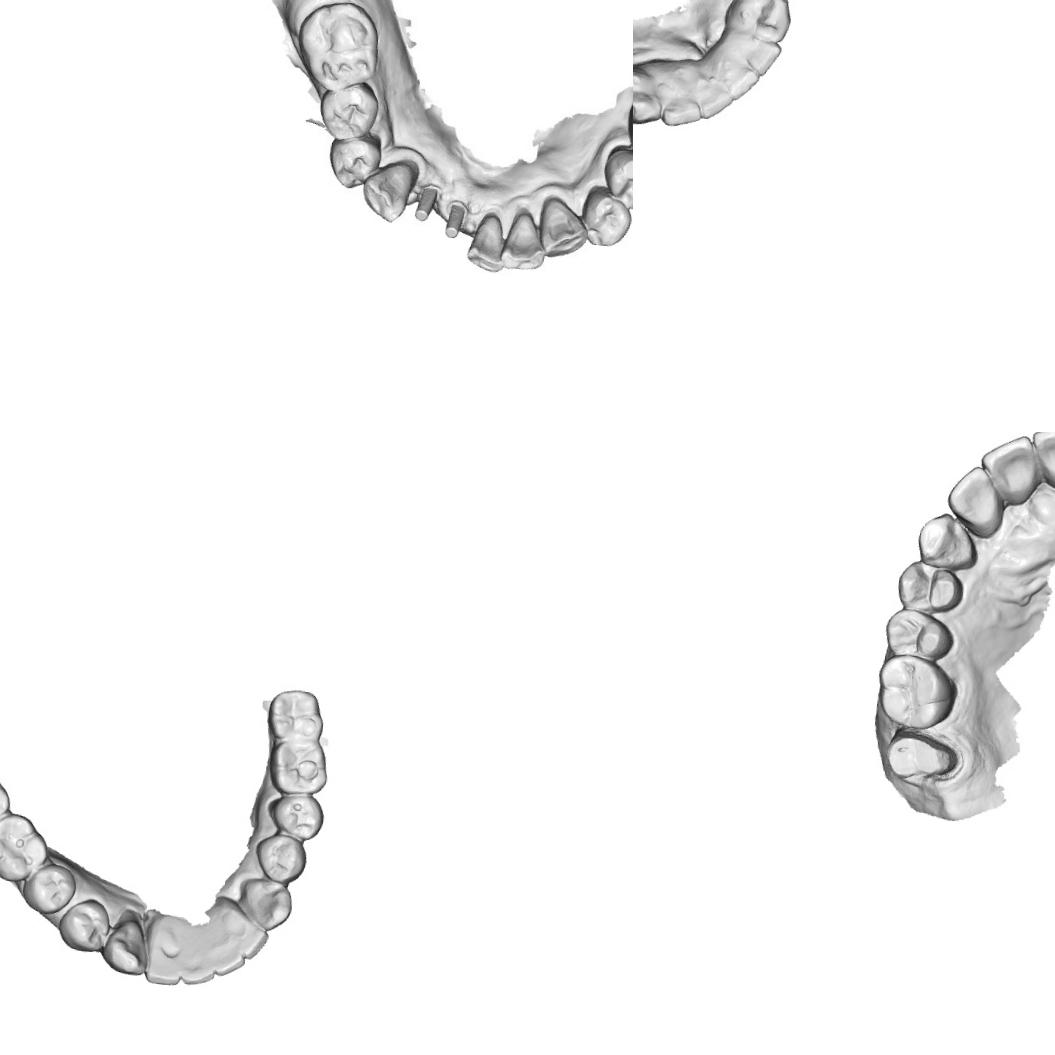abutment: (441, 196, 470, 244), (411, 180, 441, 226)
canine: (914, 508, 982, 572), (534, 196, 594, 264), (357, 155, 417, 223), (238, 876, 296, 934), (100, 916, 150, 978), (732, 0, 791, 46), (633, 66, 665, 126)
crown: (881, 725, 968, 788)
incisor: (943, 463, 1009, 540), (975, 432, 1042, 507), (502, 207, 550, 278), (142, 924, 186, 988), (466, 210, 507, 276), (176, 934, 220, 988), (206, 927, 249, 980), (736, 34, 785, 79), (694, 76, 738, 124), (660, 86, 704, 131), (224, 921, 272, 962), (720, 60, 763, 102), (1027, 432, 1055, 495)
molar: (290, 0, 386, 97), (872, 650, 962, 734), (0, 808, 53, 886), (265, 738, 332, 797), (264, 685, 328, 746)
premolar: (892, 557, 967, 618), (881, 606, 958, 664), (318, 78, 383, 146), (324, 132, 387, 195), (576, 186, 631, 254), (55, 893, 114, 956), (19, 859, 78, 918), (251, 832, 310, 887), (268, 790, 328, 842), (598, 145, 633, 211)
